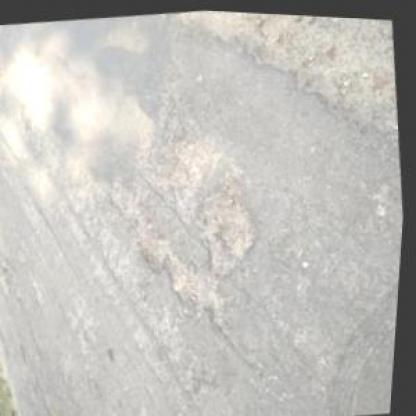pothole: (168, 7, 406, 165), (133, 215, 241, 340), (189, 180, 269, 279), (0, 249, 24, 296)
